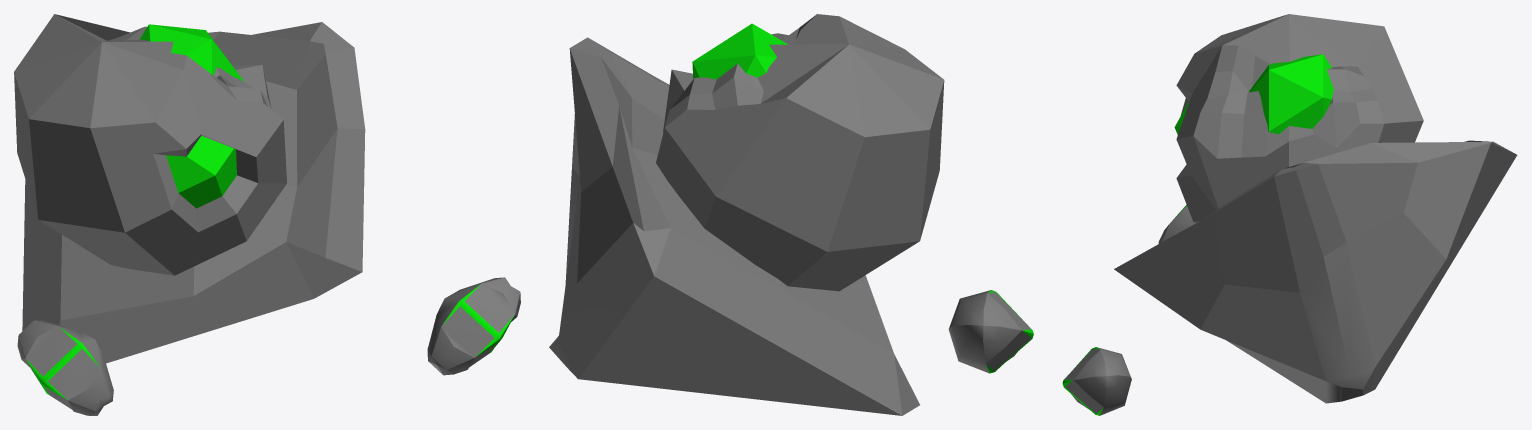
Rendered from Dead Drone1.fbx.
3 renders of one model, left to right at view 1: azimuth 30°, elevation 25°; view 2: azimuth 150°, elevation 25°; view 3: azimuth 270°, elevation 25°, orthographic. The views are drawn at different scales.
Visible parts, largest first — view 1: pSphere2, Broken_Drone, L_Drone2, L_Drone1, pPlatonic1; view 2: Broken_Drone, pSphere2, L_Drone2, pPlatonic1; view 3: Broken_Drone, pSphere2, pPlatonic1, L_Drone1, L_Drone2.
Part boxes in pixels (box(x1,y1,x2,y2)): pSphere2: box(14, 14, 286, 275); Broken_Drone: box(22, 22, 365, 363); L_Drone2: box(17, 320, 113, 415); L_Drone1: box(427, 277, 520, 375); pPlatonic1: box(139, 24, 244, 81); Broken_Drone: box(549, 37, 919, 415); pSphere2: box(656, 14, 944, 291); L_Drone2: box(948, 290, 1033, 373); pPlatonic1: box(692, 23, 788, 79); Broken_Drone: box(1114, 140, 1517, 403); pSphere2: box(1174, 14, 1423, 222); pPlatonic1: box(1249, 54, 1333, 133); L_Drone1: box(1062, 347, 1131, 415); L_Drone2: box(1158, 205, 1195, 243).
Bounding box in the file's own units: 1.16 × 0.8387 × 1.16.
